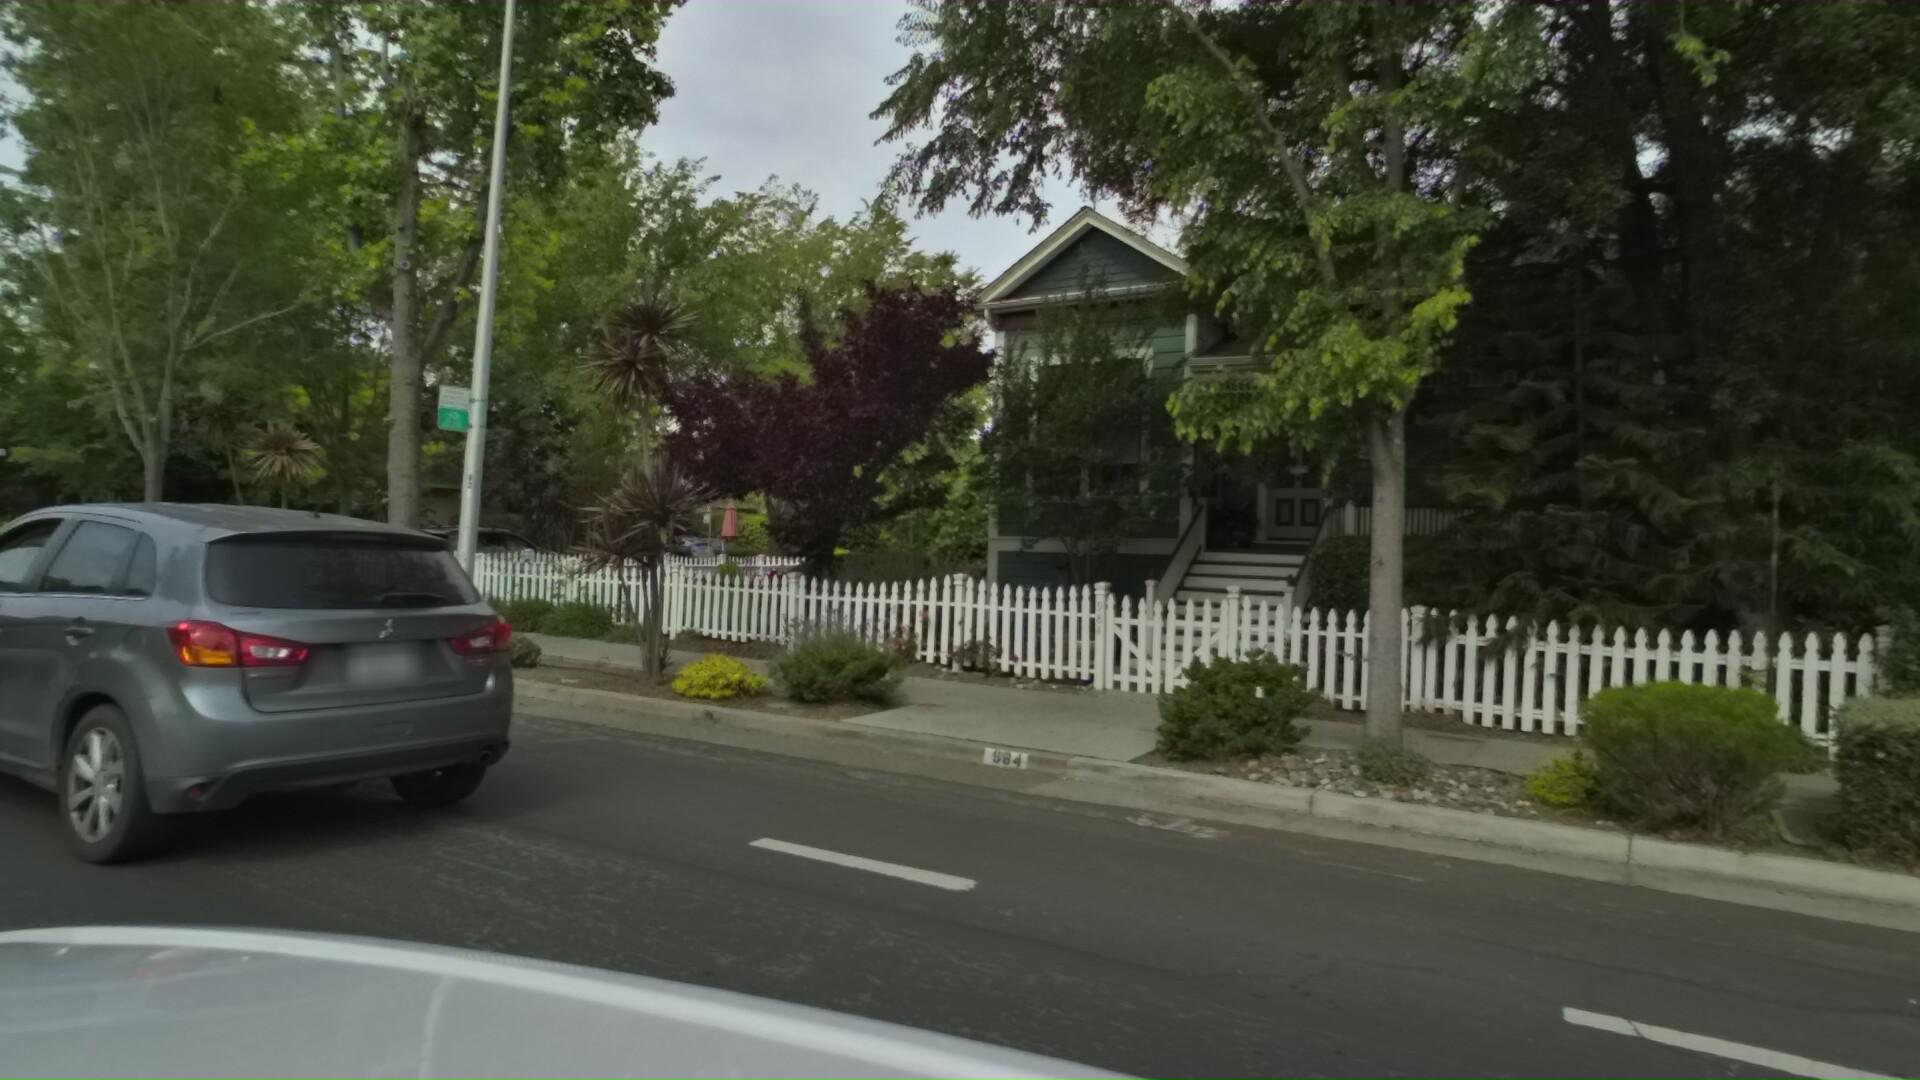car: (0, 480, 458, 876), (0, 509, 384, 684), (372, 520, 568, 596)
